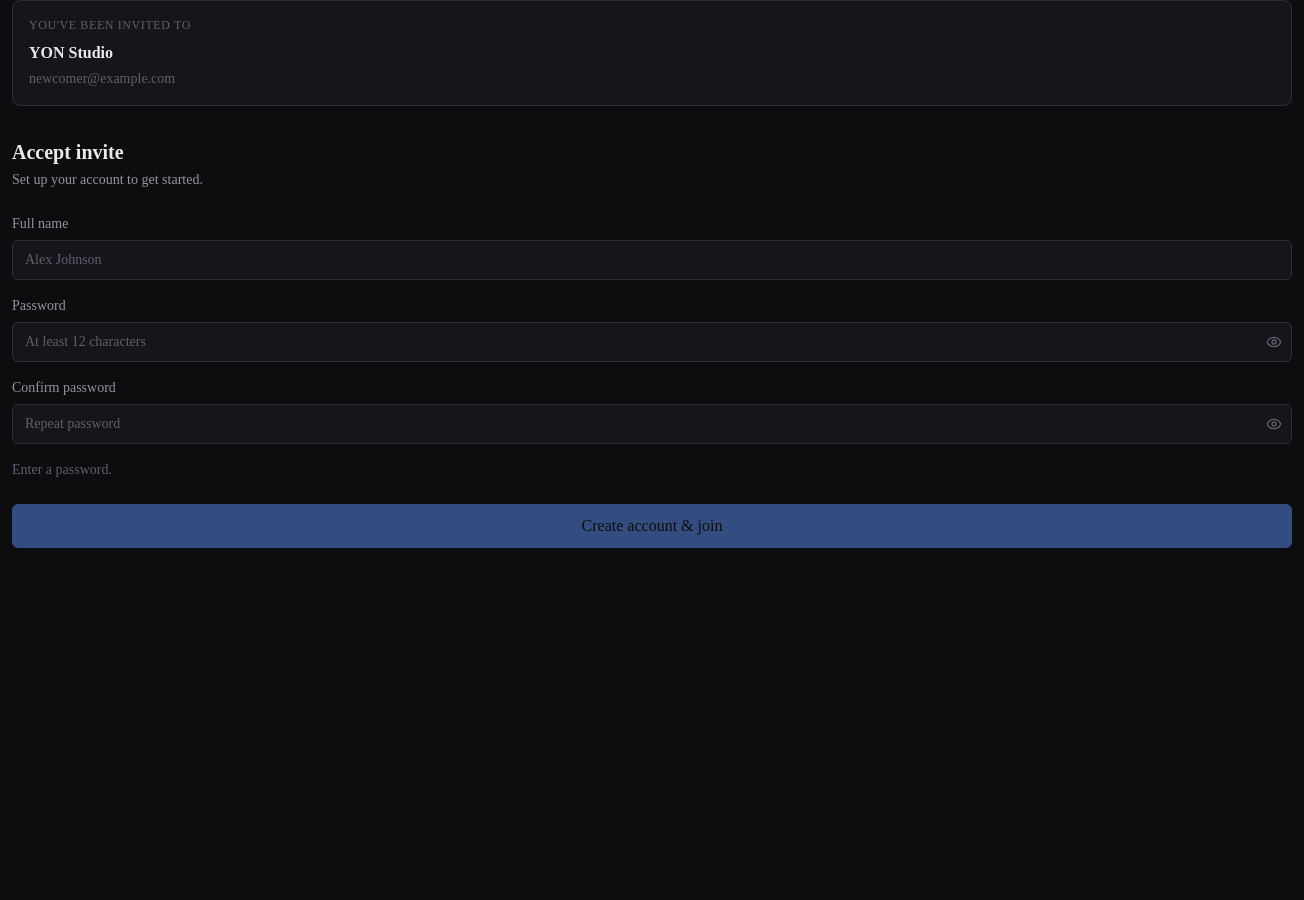
a blocked submit is never silent › asks for the confirmation once the password itself is fine
This screenshot has width=1304, height=900.
Type "Xq7#vLm2$kPzR4w" into the password field labelled "Password" at (652, 342), box [12,322,1292,362]
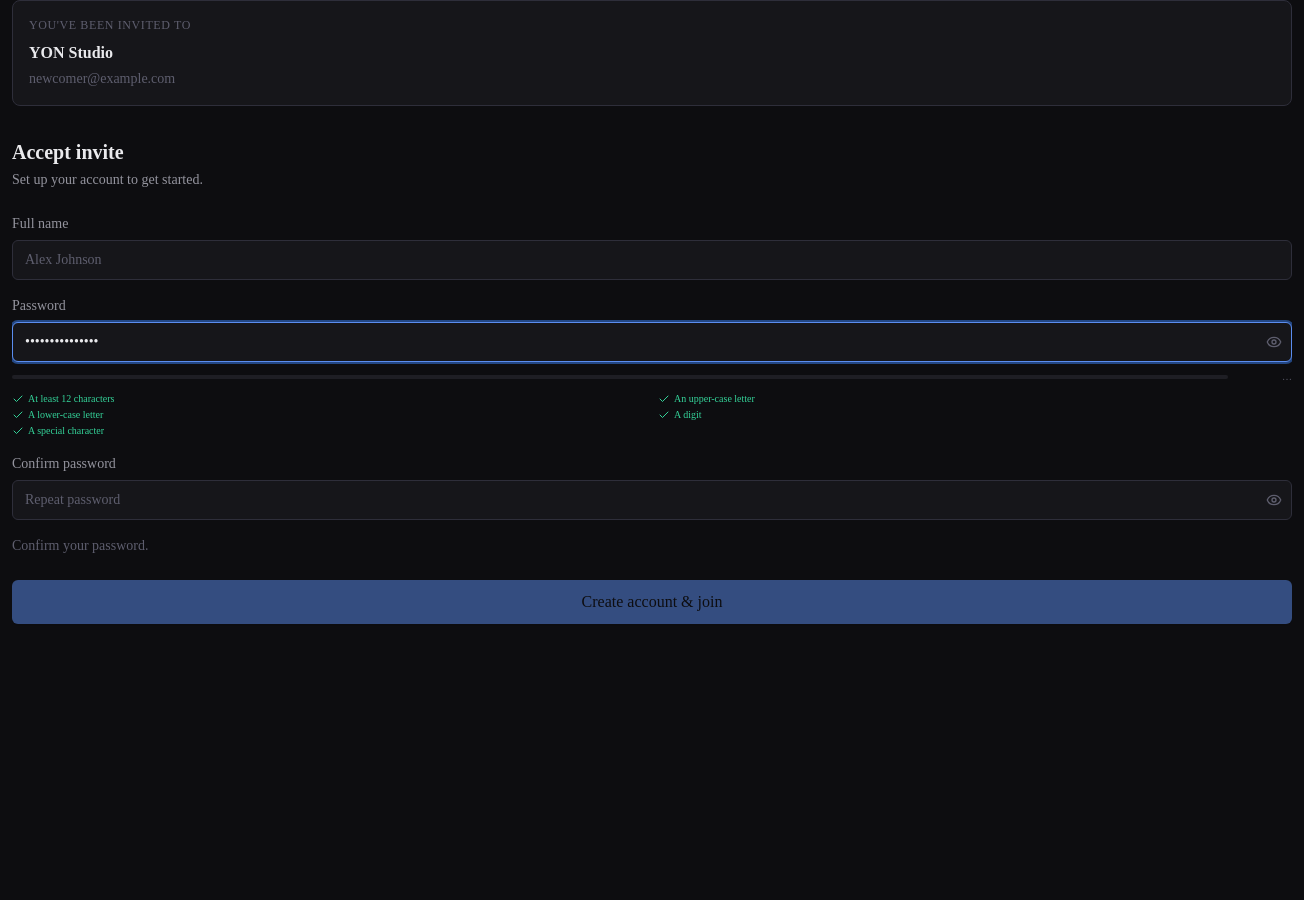
Result: the message with test id "submit-block-reason" shows "Confirm your password" at [12,538,148,553]
